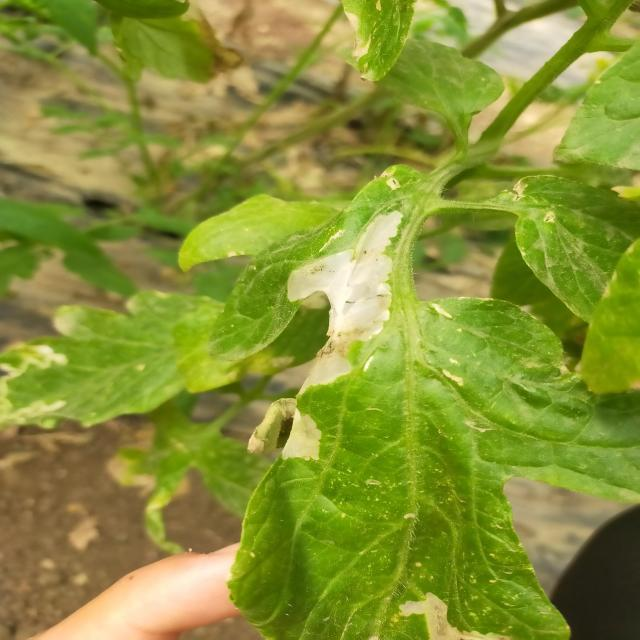Tuta absoluta: (272, 196, 405, 404), (392, 584, 514, 640), (281, 410, 330, 468)
